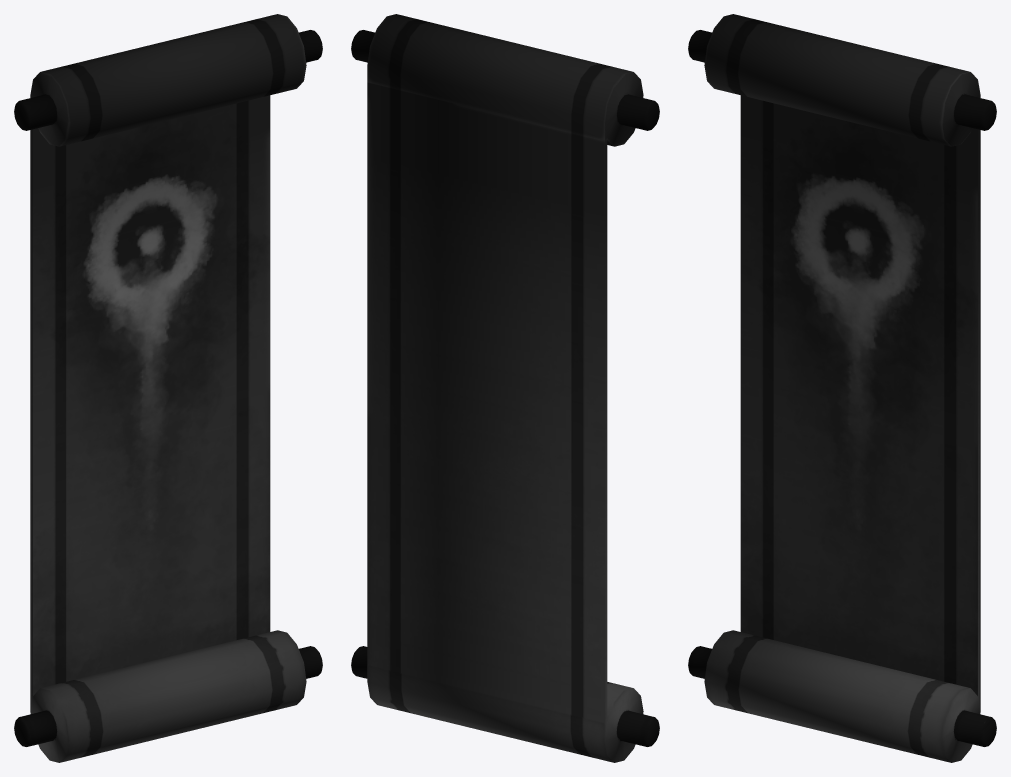
File: Scroll.fbx
3 views of the same model, side by side, from view 1: azimuth 30°, elevation 25°; view 2: azimuth 150°, elevation 25°; view 3: azimuth 330°, elevation 25° (orthographic).
Visible parts, largest first — view 1: Scroll_low; view 2: Scroll_low; view 3: Scroll_low.
Part boxes in pixels (x1,y1,x2,y2): Scroll_low: (14, 14, 322, 762); Scroll_low: (351, 14, 659, 762); Scroll_low: (688, 14, 996, 762).
Bounding box in the file's own units: 351 × 777 × 79.22.
